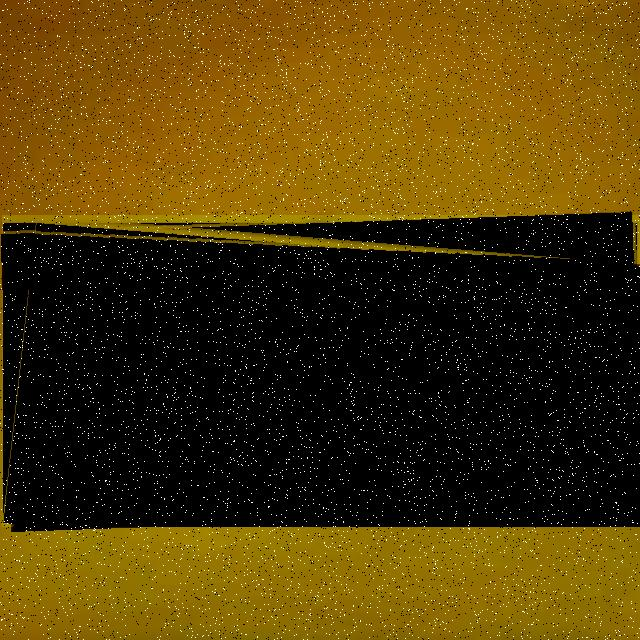lima puluh ribu rupiah: (2, 215, 640, 527)
